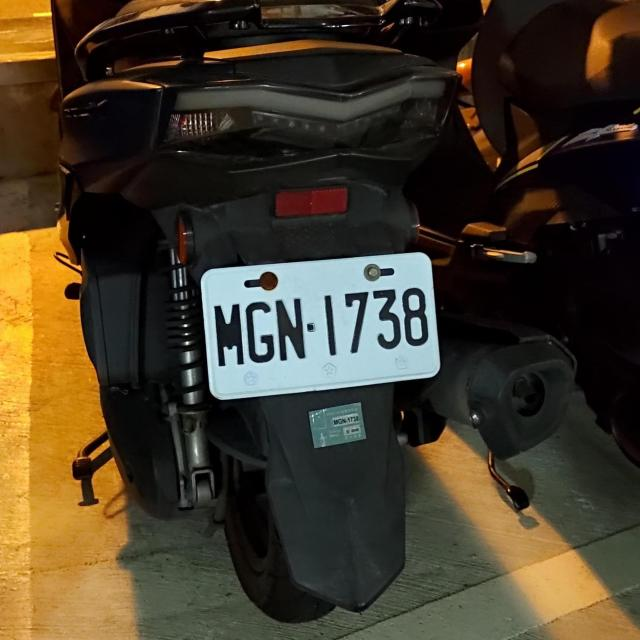W: (196, 251, 444, 402)
